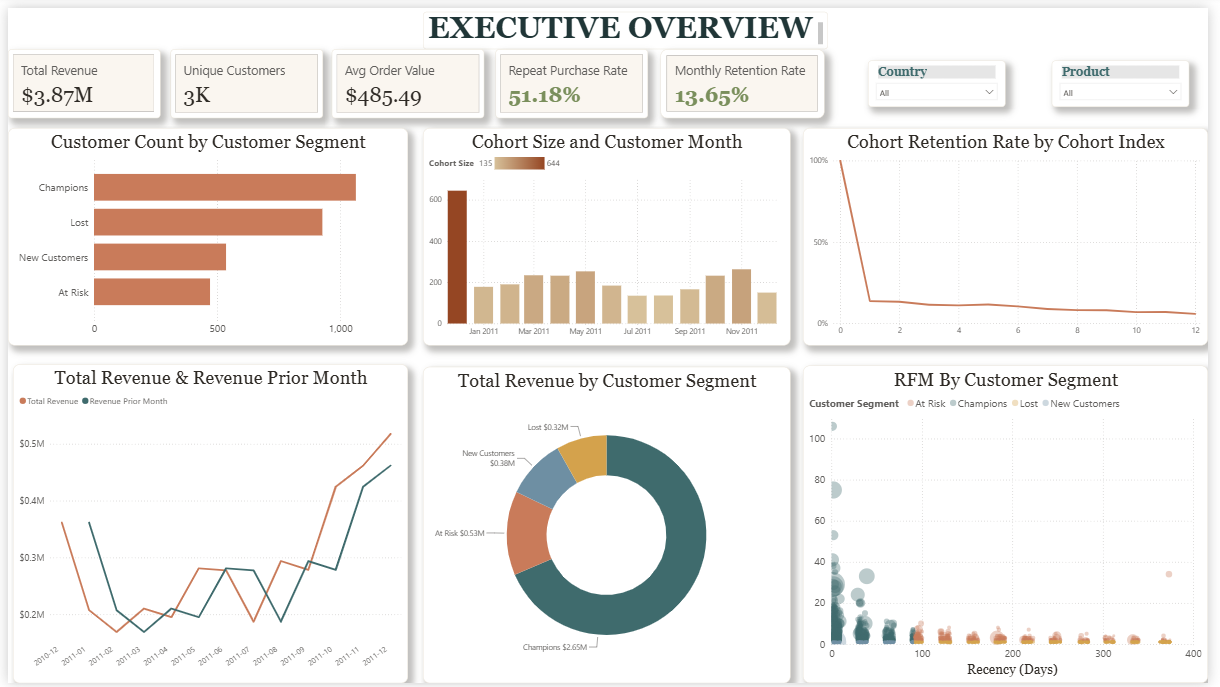

The page's visual inventory and layout, read from the dashboard file:
{"tool":"powerbi","page":{"name":"Executive Summary","canvas":[1920,1080],"ordinal":0},"visuals":[{"type":"shape","title":"bg_card","box":[40,40,1840,1000],"z":0},{"type":"shape","box":[278,66,210,120],"z":0,"group":"g1"},{"type":"shape","box":[513.2,66,210,120],"z":0,"group":"g2"},{"type":"shape","box":[748.5,66,210,120],"z":0,"group":"g3"},{"type":"shape","box":[983.8,66,210,120],"z":0,"group":"g4"},{"type":"shape","box":[1219,66,210,120],"z":0,"group":"g5"},{"type":"shape","box":[40,40,220,982.5],"z":1000},{"type":"textbox","box":[528.6,67.4,160,48.6],"z":1000,"group":"g2"},{"type":"textbox","box":[769.9,73.3,157.3,42.7],"z":1000,"group":"g3"},{"type":"textbox","box":[1002.2,73.3,165.5,42.7],"z":1000,"group":"g4"},{"type":"textbox","box":[295.1,76,115.7,40],"z":1000,"group":"g1"},{"type":"textbox","box":[1236,76,193,40],"z":1000,"group":"g5"},{"type":"cardVisual","fields":{"Data":["ecommerce_cleaned.Total Revenue"]},"box":[315.4,88.5,109,54],"z":2000,"group":"g1"},{"type":"cardVisual","fields":{"Data":["ecommerce_cleaned.Repeat Purchase Rate"]},"box":[1021.2,88.5,109,54],"z":2000,"group":"g4"},{"type":"cardVisual","fields":{"Data":["ecommerce_cleaned.Monthly Retention Rate"]},"box":[1256.4,88.5,109,54],"z":2000,"group":"g5"},{"type":"cardVisual","fields":{"Data":["ecommerce_cleaned.Unique Customers"]},"box":[582.8,90.3,64.3,55.7],"z":2000,"group":"g2"},{"type":"cardVisual","fields":{"Data":["ecommerce_cleaned.Avg Order Value"]},"box":[791.7,94.2,120.9,48.2],"z":2000,"group":"g3"},{"type":"actionButton","title":"overview button","box":[52.5,140,195,40],"z":2000},{"type":"textbox","box":[57.8,92.2,58.9,33.3],"z":3000},{"type":"cardVisual","fields":{"Data":["ecommerce_cleaned.Total Revenue MoM %"]},"box":[286.3,143,78.4,34.2],"z":3000,"group":"g1"},{"type":"cardVisual","fields":{"Data":["ecommerce_cleaned.Unique Customers MoM %"]},"box":[521.5,143,78.4,34.2],"z":3000,"group":"g2"},{"type":"cardVisual","fields":{"Data":["ecommerce_cleaned.Avg Order Value MoM %"]},"box":[756.8,143,78.4,34.2],"z":3000,"group":"g3"},{"type":"cardVisual","fields":{"Data":["ecommerce_cleaned.Repeat Purchase Rate MoM %"]},"box":[992,143,78,34],"z":3000,"group":"g4"},{"type":"cardVisual","fields":{"Data":["ecommerce_cleaned.Monthly Retention Rate MoM %"]},"box":[1227.3,143,78.4,34.2],"z":3000,"group":"g5"},{"type":"cardVisual","fields":{"Data":["ecommerce_cleaned.Total Revenue PM"]},"box":[396.3,143,78.4,34.2],"z":4000,"group":"g1"},{"type":"cardVisual","fields":{"Data":["ecommerce_cleaned.Repeat Purchase Rate PM"]},"box":[1102.1,143,78.4,34.2],"z":4000,"group":"g4"},{"type":"cardVisual","fields":{"Data":["ecommerce_cleaned.Monthly Retention Rate PM"]},"box":[1337.3,143,78.4,34.2],"z":4000,"group":"g5"},{"type":"cardVisual","fields":{"Data":["ecommerce_cleaned.Unique Customers PM"]},"box":[634.8,146,59.1,31.8],"z":4000,"group":"g2"},{"type":"cardVisual","fields":{"Data":["ecommerce_cleaned.Avg Order Value PM"]},"box":[864.4,146,84.5,30.9],"z":4000,"group":"g3"},{"type":"actionButton","box":[52.5,185.8,195,40],"z":4000},{"type":"textbox","box":[410.9,132.5,55.6,27.8],"z":5000,"group":"g1"},{"type":"textbox","box":[646.1,132.5,55.6,27.8],"z":5000,"group":"g2"},{"type":"textbox","box":[881.4,132.5,55.6,27.8],"z":5000,"group":"g3"},{"type":"textbox","box":[1116.7,132.5,55.6,27.8],"z":5000,"group":"g4"},{"type":"textbox","box":[1351.9,132.5,55.6,27.8],"z":5000,"group":"g5"},{"type":"textbox","box":[80,185.8,174,40],"z":5000},{"type":"actionButton","box":[52.5,231.7,195,40],"z":6000},{"type":"actionButton","box":[57.3,353.6,190.9,40],"z":7000},{"type":"textbox","box":[94.4,353.3,80,40],"z":8000},{"type":"textbox","box":[82.5,231.7,132.5,40],"z":9000},{"type":"textbox","box":[82.5,140,143.3,40],"z":10000},{"type":"shape","box":[53.6,271.8,194.5,28.2],"z":11000},{"type":"group","id":"g1","title":"KPI 1","box":[278,66,210,120],"z":12000},{"type":"group","id":"g2","title":"KPI 2","box":[513.2,66,210,120],"z":13000},{"type":"group","id":"g3","title":"KPI 3","box":[748.5,66,210,120],"z":14000},{"type":"group","id":"g4","title":"KPI 4","box":[983.8,66,210,120],"z":15000},{"type":"group","id":"g5","title":"KPI 4","box":[1219,66,210,120],"z":16000},{"type":"lineClusteredColumnComboChart","title":"Revenue Concentration By Segments","fields":{"Category":["ecommerce_cleaned.Customer Segment (Column)"],"Y":["ecommerce_cleaned.Total Revenue"],"Y2":["ecommerce_cleaned.Cumulative Revenue % (By Bucket)"]},"box":[288,610,624,384],"z":17000},{"type":"donutChart","title":"Total Revenue by Customer Segment ","fields":{"Y":["ecommerce_cleaned.Total Revenue"],"Category":["ecommerce_cleaned.Customer Segment (Column)"]},"box":[938,210,484,382],"z":18000},{"type":"lineChart","title":"Total Revenue & Revenue Prior Month","fields":{"Y":["ecommerce_cleaned.Total Revenue","ecommerce_cleaned.Revenue Prior Month"],"Category":["Calendar.Year-Month"]},"box":[286,206,626,386],"z":19000},{"type":"barChart","title":"Customer Count by Customer Segment","fields":{"Y":["Count(ecommerce_cleaned.CustomerID)"],"Category":["ecommerce_cleaned.Customer Segment (Column)"]},"box":[938,610,484,384],"z":20000},{"type":"slicer","fields":{"Values":["ecommerce_cleaned.Country"]},"box":[1444.3,88.6,187.1,74.3],"z":21000},{"type":"slicer","fields":{"Values":["ecommerce_cleaned.Description"]},"box":[1655.7,88.6,197.1,74.3],"z":22000},{"type":"gauge","fields":{"Y":["ecommerce_cleaned.Monthly Retention Rate"]},"box":[1444,610,397.5,385],"z":23000},{"type":"ribbonChart","title":"Segment Revenue Rank Over Time","fields":{"Category":["ecommerce_cleaned.Customer Segment (Column)"],"Y":["ecommerce_cleaned.Total Revenue","CountNonNull(Calendar.Month Name)"]},"box":[1444,212,397.5,380],"z":24000}]}

Visuals, with their boxes in screenshot pixels (x1, y1, x2, y2), scaled from the page's 1920x1080 canvas onto the 1220x687 screenshot:
"bg_card" shape: [25, 25, 1195, 662]
shape: [177, 42, 310, 118]
shape: [326, 42, 460, 118]
shape: [476, 42, 609, 118]
shape: [625, 42, 759, 118]
shape: [775, 42, 908, 118]
shape: [25, 25, 165, 650]
textbox: [336, 43, 438, 74]
textbox: [489, 47, 589, 74]
textbox: [637, 47, 742, 74]
textbox: [188, 48, 261, 74]
textbox: [785, 48, 908, 74]
cardVisual - ecommerce_cleaned.Total Revenue: [200, 56, 270, 91]
cardVisual - ecommerce_cleaned.Repeat Purchase Rate: [649, 56, 718, 91]
cardVisual - ecommerce_cleaned.Monthly Retention Rate: [798, 56, 868, 91]
cardVisual - ecommerce_cleaned.Unique Customers: [370, 57, 411, 93]
cardVisual - ecommerce_cleaned.Avg Order Value: [503, 60, 580, 91]
"overview button" actionButton: [33, 89, 157, 114]
textbox: [37, 59, 74, 80]
cardVisual - ecommerce_cleaned.Total Revenue MoM %: [182, 91, 232, 113]
cardVisual - ecommerce_cleaned.Unique Customers MoM %: [331, 91, 381, 113]
cardVisual - ecommerce_cleaned.Avg Order Value MoM %: [481, 91, 531, 113]
cardVisual - ecommerce_cleaned.Repeat Purchase Rate MoM %: [630, 91, 680, 113]
cardVisual - ecommerce_cleaned.Monthly Retention Rate MoM %: [780, 91, 830, 113]
cardVisual - ecommerce_cleaned.Total Revenue PM: [252, 91, 302, 113]
cardVisual - ecommerce_cleaned.Repeat Purchase Rate PM: [700, 91, 750, 113]
cardVisual - ecommerce_cleaned.Monthly Retention Rate PM: [850, 91, 900, 113]
cardVisual - ecommerce_cleaned.Unique Customers PM: [403, 93, 441, 113]
cardVisual - ecommerce_cleaned.Avg Order Value PM: [549, 93, 603, 113]
actionButton: [33, 118, 157, 144]
textbox: [261, 84, 296, 102]
textbox: [411, 84, 446, 102]
textbox: [560, 84, 595, 102]
textbox: [710, 84, 745, 102]
textbox: [859, 84, 894, 102]
textbox: [51, 118, 161, 144]
actionButton: [33, 147, 157, 173]
actionButton: [36, 225, 158, 250]
textbox: [60, 225, 111, 250]
textbox: [52, 147, 137, 173]
textbox: [52, 89, 143, 114]
shape: [34, 173, 158, 191]
"KPI 1" group: [177, 42, 310, 118]
"KPI 2" group: [326, 42, 460, 118]
"KPI 3" group: [476, 42, 609, 118]
"KPI 4" group: [625, 42, 759, 118]
"KPI 4" group: [775, 42, 908, 118]
"Revenue Concentration By Segments" lineClusteredColumnComboChart: [183, 388, 580, 632]
"Total Revenue by Customer Segment " donutChart: [596, 134, 904, 377]
"Total Revenue & Revenue Prior Month" lineChart: [182, 131, 580, 377]
"Customer Count by Customer Segment" barChart: [596, 388, 904, 632]
slicer - ecommerce_cleaned.Country: [918, 56, 1037, 104]
slicer - ecommerce_cleaned.Description: [1052, 56, 1177, 104]
gauge - ecommerce_cleaned.Monthly Retention Rate: [918, 388, 1170, 633]
"Segment Revenue Rank Over Time" ribbonChart: [918, 135, 1170, 377]
